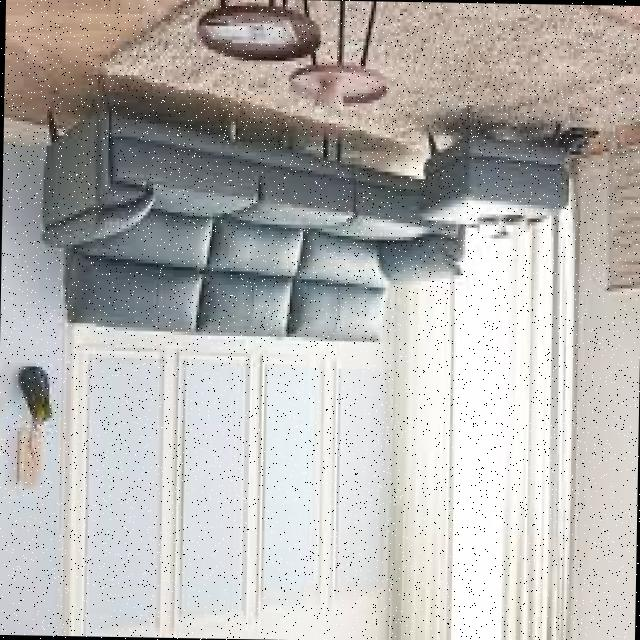Sofa: (10, 78, 512, 350)
